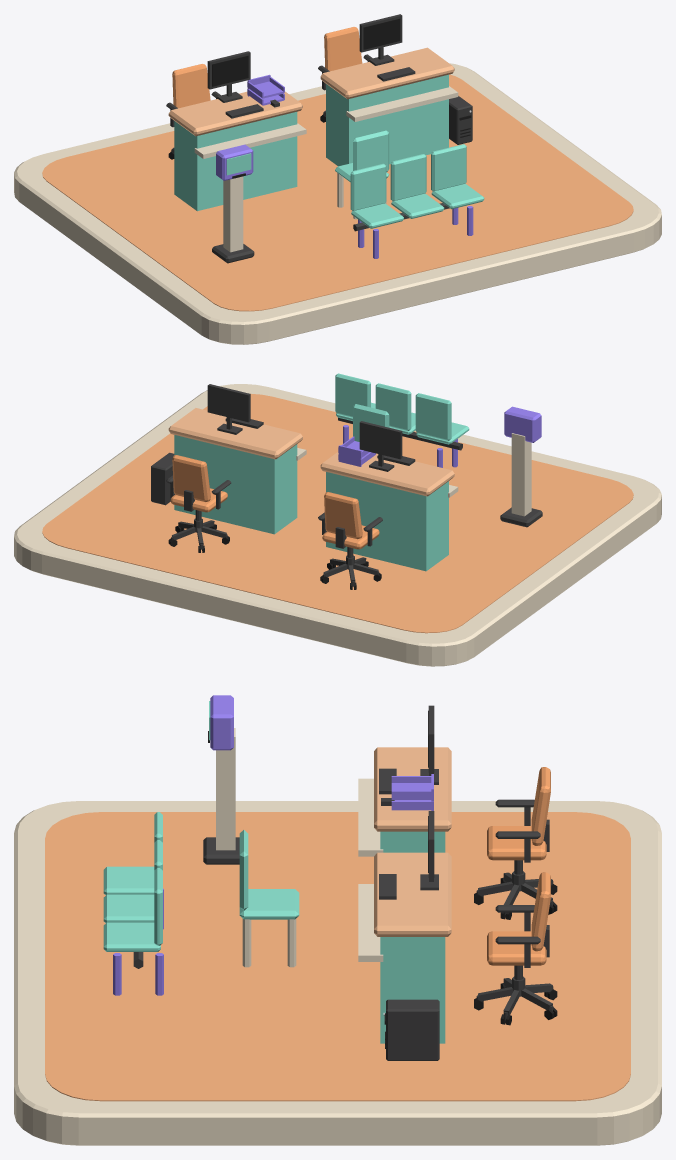
File: room.fbx
3 views of the same model, one above another, from view 1: azimuth 30°, elevation 25°; view 2: azimuth 150°, elevation 25°; view 3: azimuth 270°, elevation 25° (orthographic). The views are drawn at different scales.
Visible parts, largest first — view 1: COM-02 Floor Surface, COM-01 Rounded Base Direct, Counter body, Counter body.001, Countertop.001, Countertop, COM-04_Chair_blender_direct, COM-04_Chair_blender_direct.001, Frame.001, Frame, Pedestal, Back.001 (+11 smaller); view 2: COM-02 Floor Surface, COM-01 Rounded Base Direct, Counter body.001, Counter body, COM-04_Chair_blender_direct.001, COM-04_Chair_blender_direct, Countertop.001, Countertop, Pedestal, Frame, Frame.001, Back (+6 smaller); view 3: COM-02 Floor Surface, COM-01 Rounded Base Direct, Countertop.001, COM-04_Chair_blender_direct.001, COM-04_Chair_blender_direct, Counter body.001, Countertop, Tower, Pedestal, Seat.003, Seat.002, Seat (+9 smaller).
Part boxes in pixels (box(x1,y1,x2,y2)): COM-02 Floor Surface: box(42, 74, 633, 311); COM-01 Rounded Base Direct: box(14, 63, 661, 344); Counter body: box(174, 112, 297, 211); Counter body.001: box(326, 74, 448, 166); Countertop.001: box(320, 47, 454, 99); Countertop: box(168, 91, 302, 136); COM-04_Chair_blender_direct: box(166, 64, 220, 159); COM-04_Chair_blender_direct.001: box(318, 27, 372, 122); Frame.001: box(359, 14, 402, 65); Frame: box(207, 51, 250, 102); Pedestal: box(223, 176, 243, 252); Back.001: box(390, 154, 426, 201); COM-02 Floor Surface: box(42, 393, 633, 633); COM-01 Rounded Base Direct: box(14, 384, 661, 666); Counter body.001: box(174, 435, 297, 534); Counter body: box(326, 472, 448, 571); COM-04_Chair_blender_direct.001: box(166, 455, 231, 552); COM-04_Chair_blender_direct: box(318, 492, 382, 589); Countertop.001: box(168, 408, 302, 459); Countertop: box(320, 452, 454, 496); Pedestal: box(511, 433, 531, 516); Frame: box(359, 421, 402, 471); Frame.001: box(207, 384, 250, 434); Back: box(415, 393, 451, 440); COM-02 Floor Surface: box(45, 812, 630, 1101); COM-01 Rounded Base Direct: box(14, 801, 661, 1145); Countertop.001: box(374, 852, 451, 936); COM-04_Chair_blender_direct.001: box(474, 872, 557, 1025); COM-04_Chair_blender_direct: box(474, 767, 557, 919); Counter body.001: box(380, 937, 445, 1043); Countertop: box(374, 747, 451, 831); Tower: box(386, 999, 439, 1060); Pedestal: box(216, 728, 235, 850); Seat.003: box(239, 889, 299, 919); Seat.002: box(103, 922, 160, 951); Seat: box(103, 866, 154, 894).
Bounding box in the file's own units: 600 × 192 × 520.
